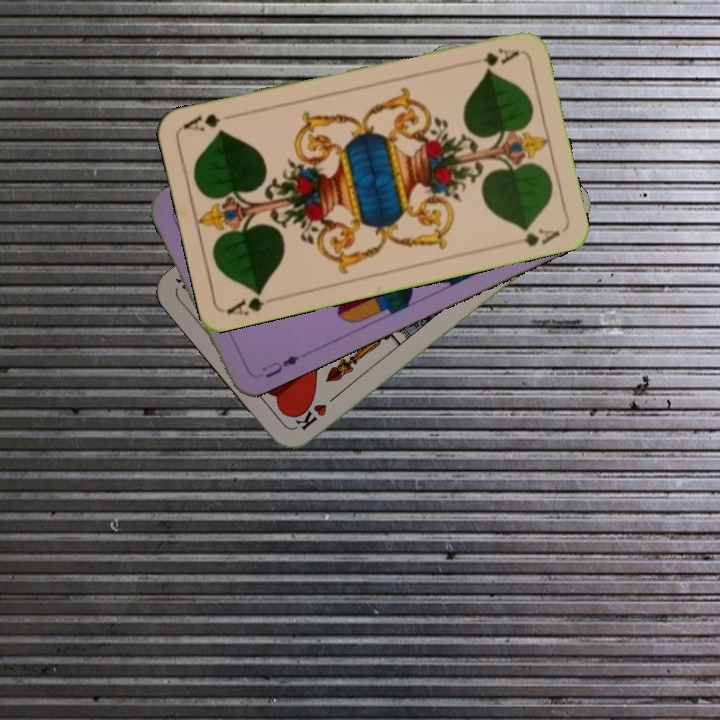EU: (258, 351, 302, 381)
GA: (223, 286, 267, 318), (479, 44, 521, 69)
HK: (291, 388, 343, 433)
